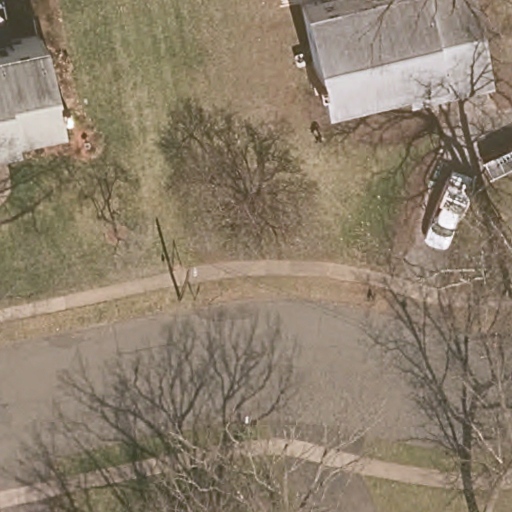DT: (177, 266, 202, 301)
